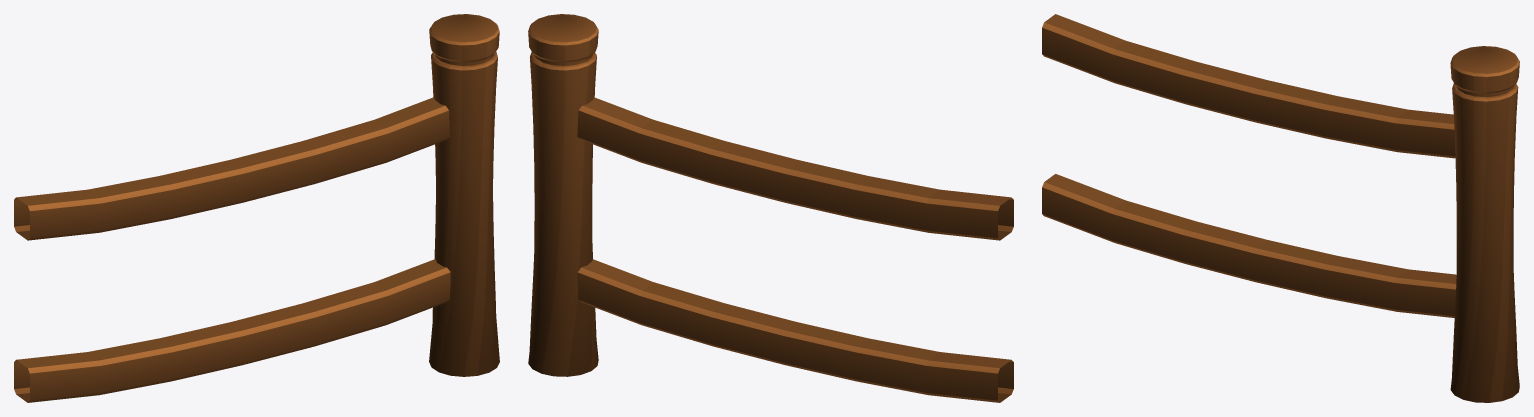
File: Fence-3-2.fbx
3 views of the same model, side by side, from view 1: azimuth 30°, elevation 25°; view 2: azimuth 150°, elevation 25°; view 3: azimuth 330°, elevation 25° (orthographic).
Visible parts, largest first — view 1: Fence-3-2; view 2: Fence-3-2; view 3: Fence-3-2.
Part boxes in pixels (left/top/right/bottom): Fence-3-2: left=14, top=14, right=499, bottom=402; Fence-3-2: left=528, top=14, right=1013, bottom=402; Fence-3-2: left=1042, top=14, right=1519, bottom=402.
Bounding box in the file's own units: 225 × 158 × 28.97.
